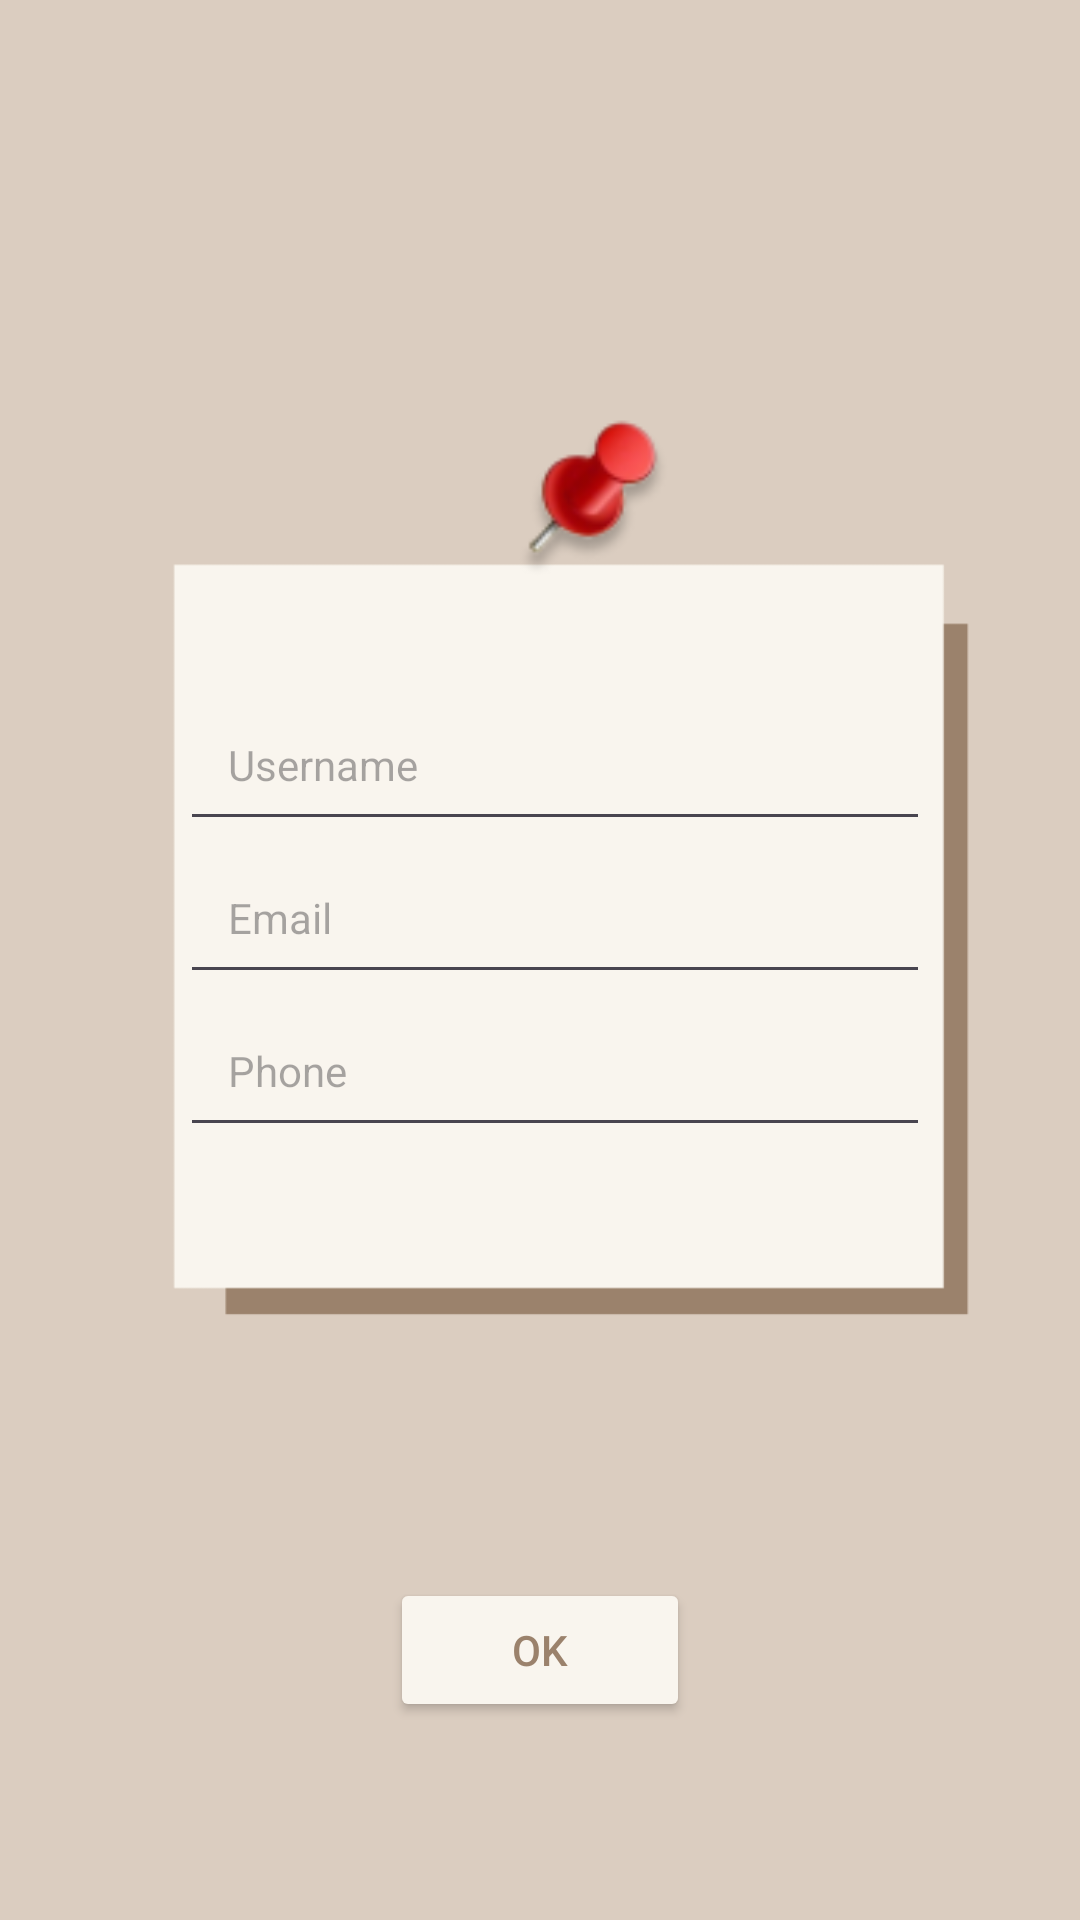

Icon bounding boxes for this 1080w x 1920h phone screenshot, format (x1, y1, x2, y2):
pin: (495, 421, 705, 636)
